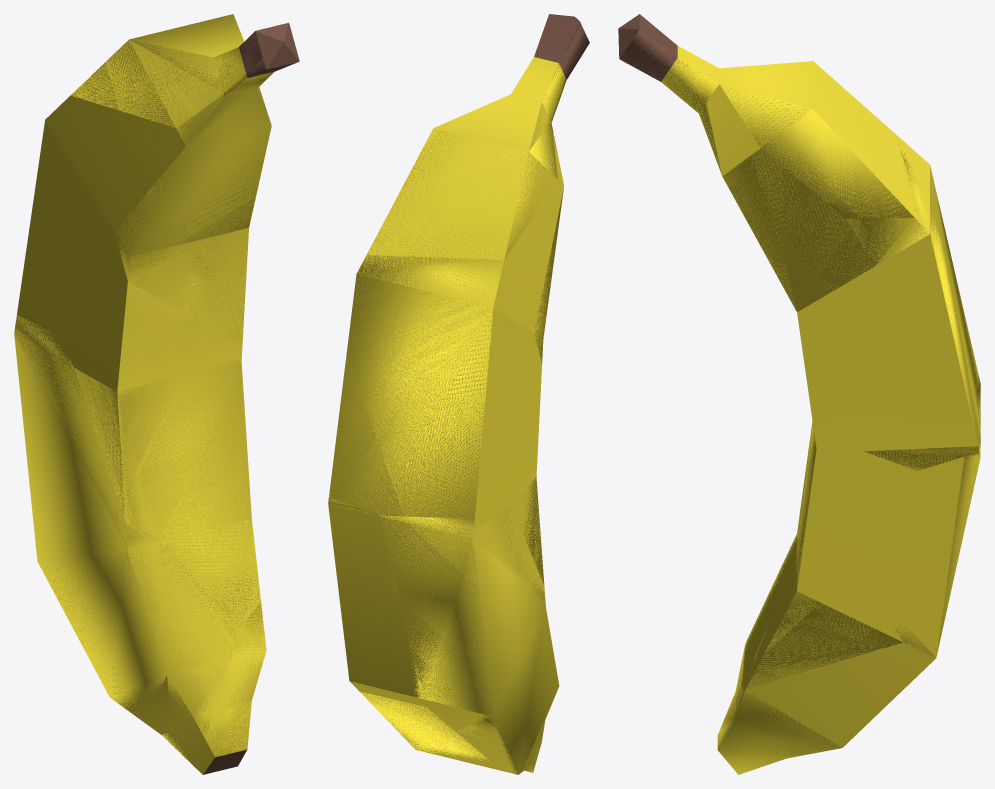
Rendered from banana_fractured.fbx.
The picture shows the model from 3 angles, left to right: view 1: azimuth 30°, elevation 25°; view 2: azimuth 150°, elevation 25°; view 3: azimuth 270°, elevation 25°; orthographic projection. The views are drawn at different scales.
Visible parts, largest first — view 1: pasted__pCube11 group, pasted__pCube11 group_shard.006, pasted__pCube11 group_shard, pasted__pCube11 group_shard.007, pasted__pCube11 group_shard.002, pasted__pCube11 group_shard.005, pasted__pCube11 group_shard.001; view 2: pasted__pCube11 group, pasted__pCube11 group_shard.004, pasted__pCube11 group_shard.006, pasted__pCube11 group_shard.002, pasted__pCube11 group_shard.005, pasted__pCube11 group_shard.007, pasted__pCube11 group_shard; view 3: pasted__pCube11 group, pasted__pCube11 group_shard.007, pasted__pCube11 group_shard.002, pasted__pCube11 group_shard.005, pasted__pCube11 group_shard.004, pasted__pCube11 group_shard.003, pasted__pCube11 group_shard, pasted__pCube11 group_shard.006.
Boxes of the visible parts, left/top/right/bottom form: pasted__pCube11 group: left=14, top=14, right=299, bottom=774; pasted__pCube11 group_shard.006: left=14, top=315, right=237, bottom=740; pasted__pCube11 group_shard: left=74, top=356, right=260, bottom=630; pasted__pCube11 group_shard.007: left=117, top=39, right=299, bottom=345; pasted__pCube11 group_shard.002: left=70, top=22, right=293, bottom=127; pasted__pCube11 group_shard.005: left=162, top=602, right=265, bottom=774; pasted__pCube11 group_shard.001: left=122, top=281, right=206, bottom=341; pasted__pCube11 group: left=328, top=14, right=582, bottom=774; pasted__pCube11 group_shard.004: left=329, top=255, right=503, bottom=518; pasted__pCube11 group_shard.006: left=379, top=506, right=559, bottom=774; pasted__pCube11 group_shard.002: left=368, top=23, right=586, bottom=259; pasted__pCube11 group_shard.005: left=359, top=691, right=532, bottom=772; pasted__pCube11 group_shard.007: left=329, top=37, right=589, bottom=498; pasted__pCube11 group_shard: left=519, top=477, right=544, bottom=585; pasted__pCube11 group: left=618, top=14, right=980, bottom=756; pasted__pCube11 group_shard.007: left=618, top=31, right=979, bottom=470; pasted__pCube11 group_shard.002: left=618, top=28, right=914, bottom=218; pasted__pCube11 group_shard.005: left=717, top=603, right=902, bottom=774; pasted__pCube11 group_shard.004: left=846, top=144, right=980, bottom=446; pasted__pCube11 group_shard.003: left=893, top=431, right=980, bottom=657; pasted__pCube11 group_shard: left=765, top=423, right=820, bottom=652; pasted__pCube11 group_shard.006: left=725, top=366, right=980, bottom=717.
Bounding box in the file's own units: 2076 × 9795 × 4317.
